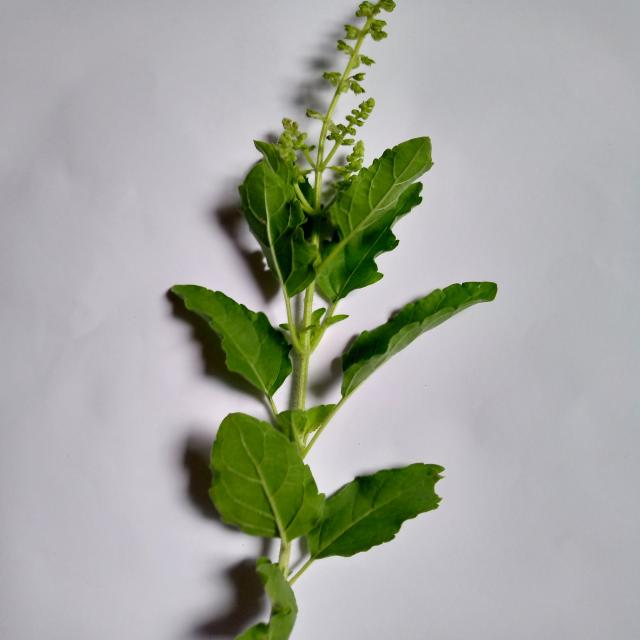tulsi: (169, 0, 499, 640)
